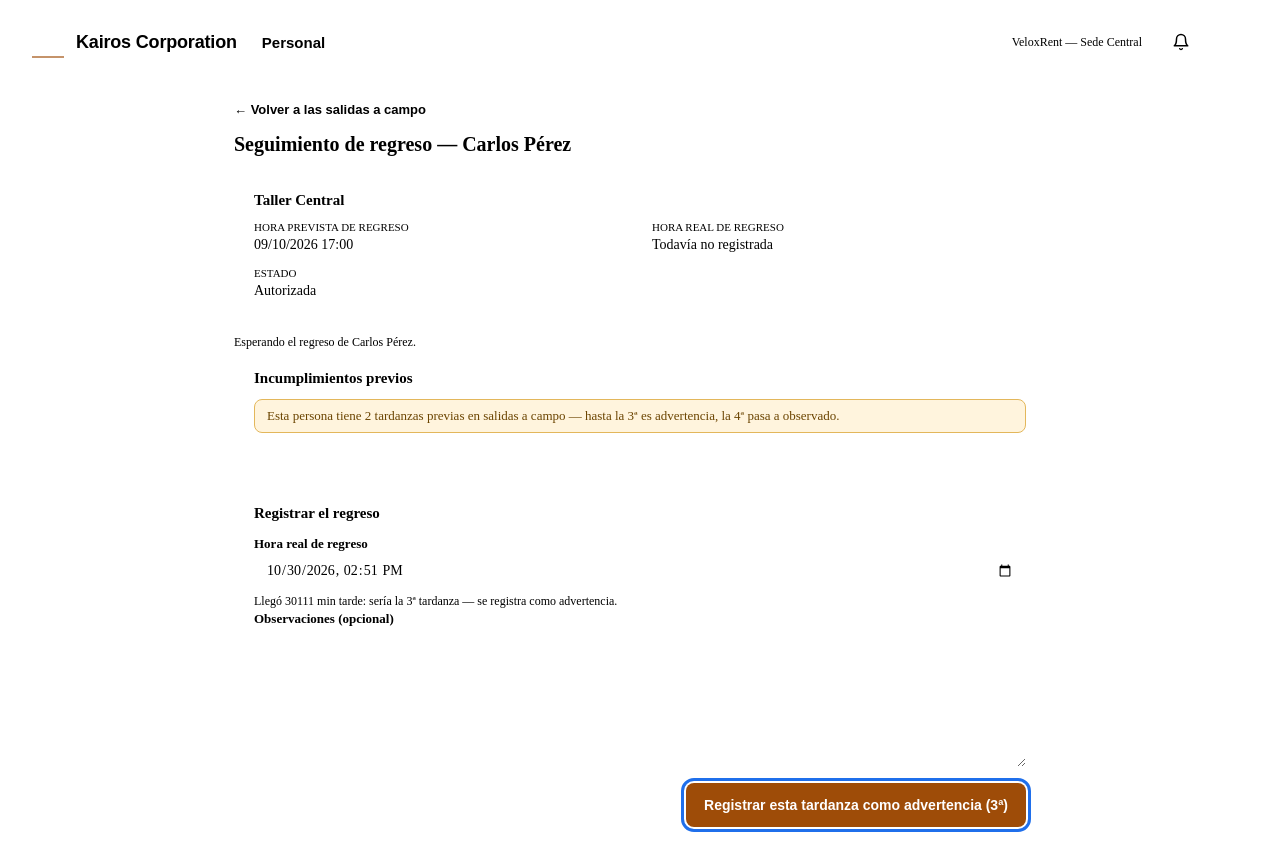
ReturnFollowUpScreen (ADP-08) › a tiempo: el boton es "Cerrar"
Replace the text in the field labelled "Hora real de regreso" with "2026-10-09T16:50" at x=640, y=571, box [254,552,1026,590]
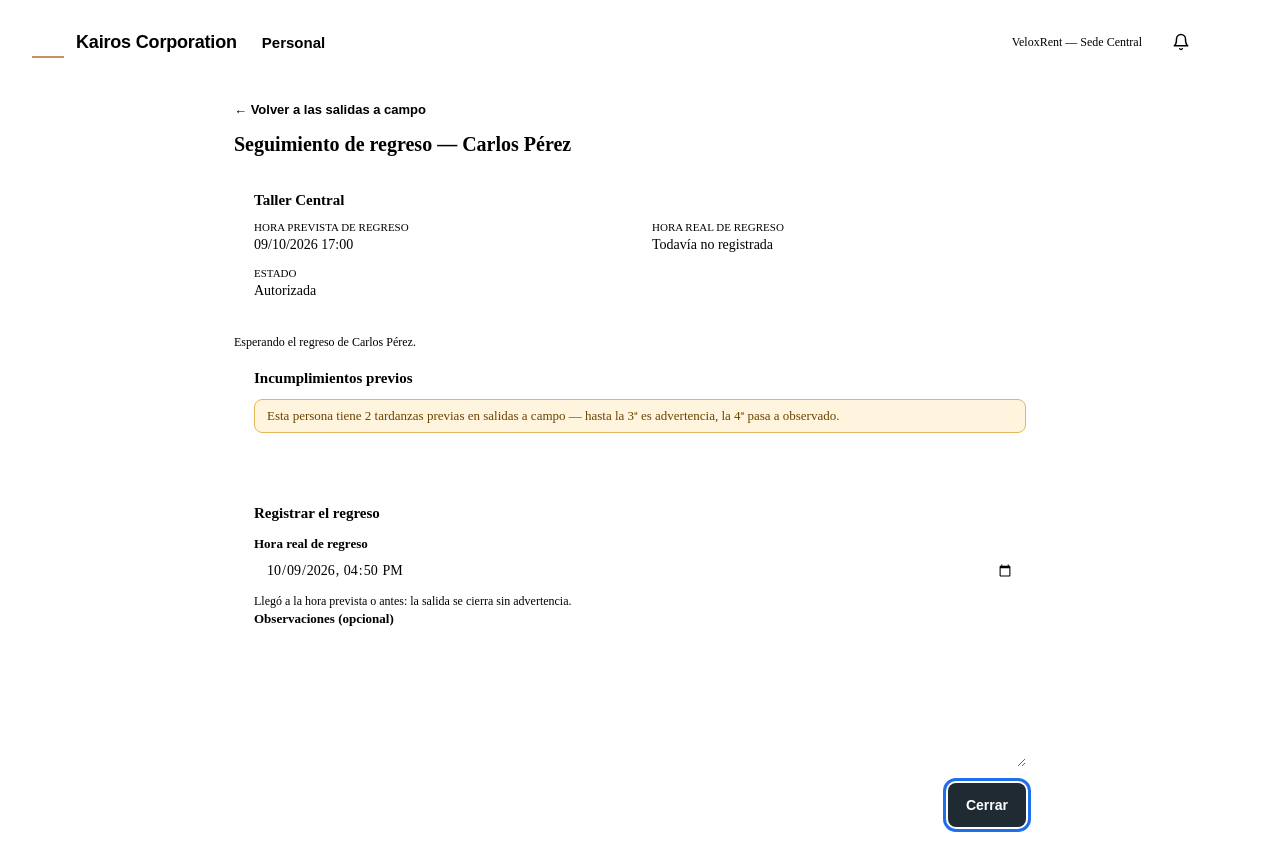
Check: the button "Cerrar" is shown, box [948,783,1026,827]
